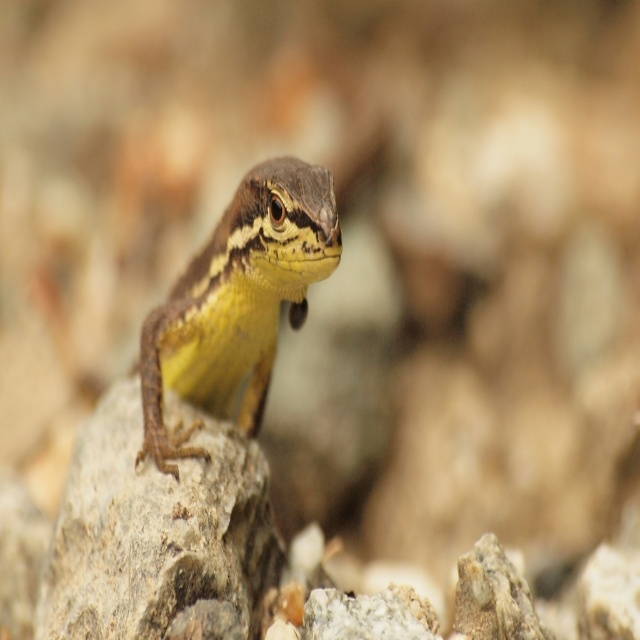Lizard: (121, 164, 343, 503)
